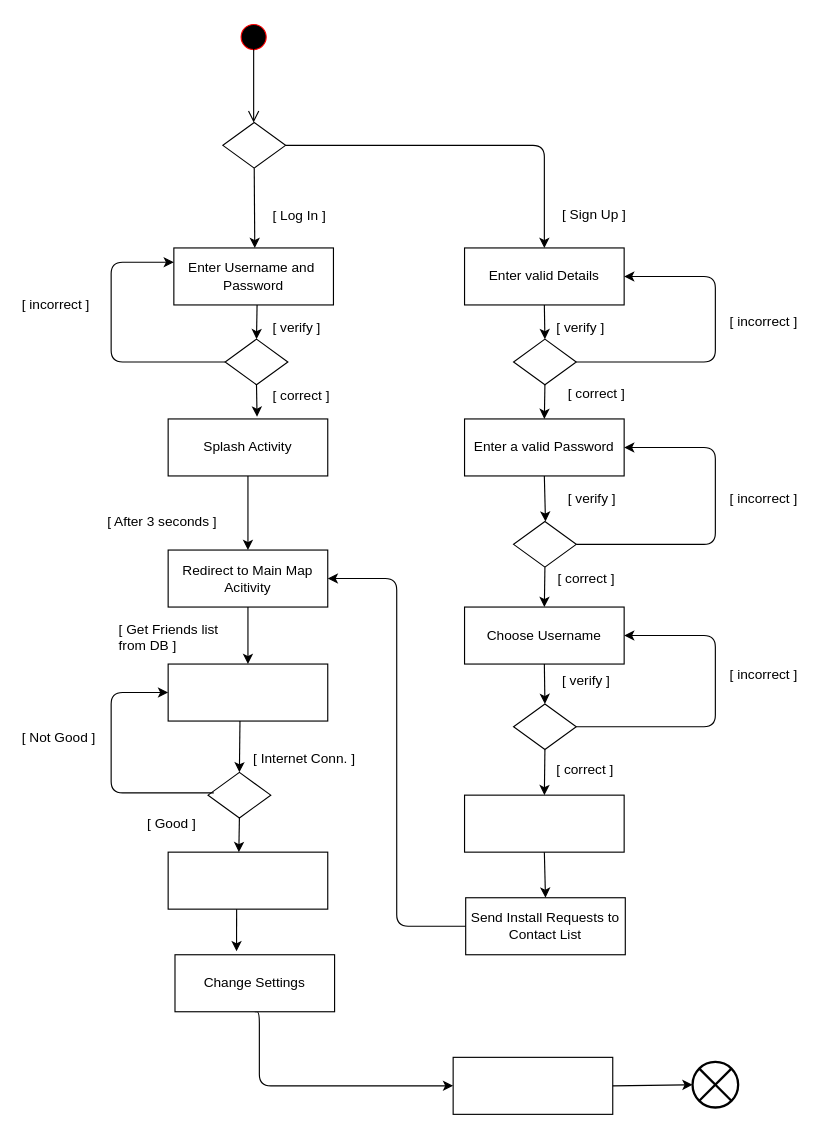
The diagram is 827 pixels wide and 1134 high, and some of its shapes have lost their labels. Each missing label, with the box of its shape:
Add Friends by Contact List: (463, 794, 624, 852)
Log Out: (452, 1056, 613, 1114)
Plot the Location coordinates on the Map: (167, 851, 328, 909)
Show Last Location of user and his Friends: (167, 663, 328, 721)
